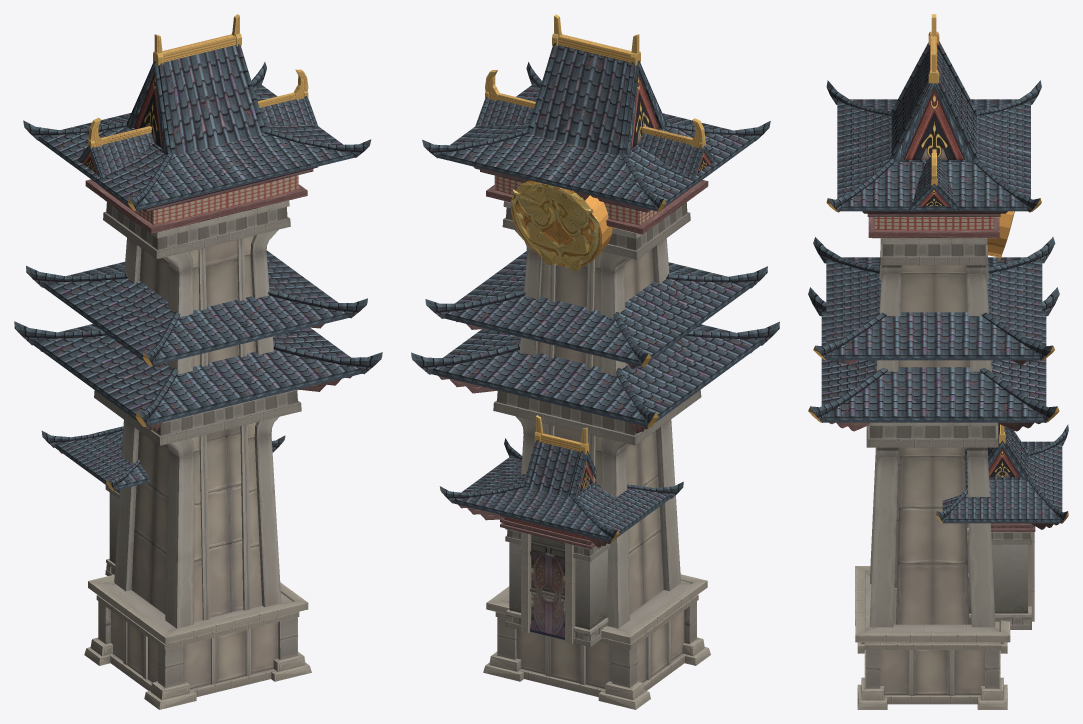
File: mod_zlc_jianzhu050_xy.FBX
3 renders of one model, left to right at view 1: azimuth 30°, elevation 25°; view 2: azimuth 150°, elevation 25°; view 3: azimuth 270°, elevation 25°, orthographic.
Parts seen in each view (by area): view 1: mod_zlc_jianzhu050_xy; view 2: mod_zlc_jianzhu050_xy; view 3: mod_zlc_jianzhu050_xy.
Boxes of the visible parts, x1=… form: mod_zlc_jianzhu050_xy: x1=14, y1=14, x2=382, y2=709; mod_zlc_jianzhu050_xy: x1=411, y1=14, x2=779, y2=709; mod_zlc_jianzhu050_xy: x1=808, y1=14, x2=1068, y2=709.
Bounding box in the file's own units: 2923 × 7223 × 2674.
Materials: 6 (6 with a texture image).
